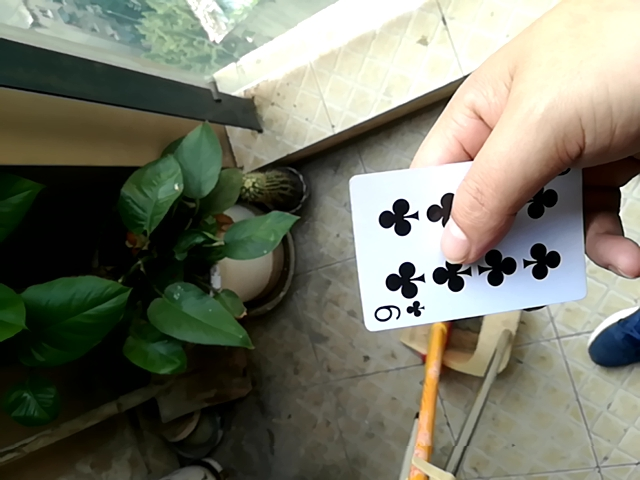mh 9: (344, 161, 581, 335)
